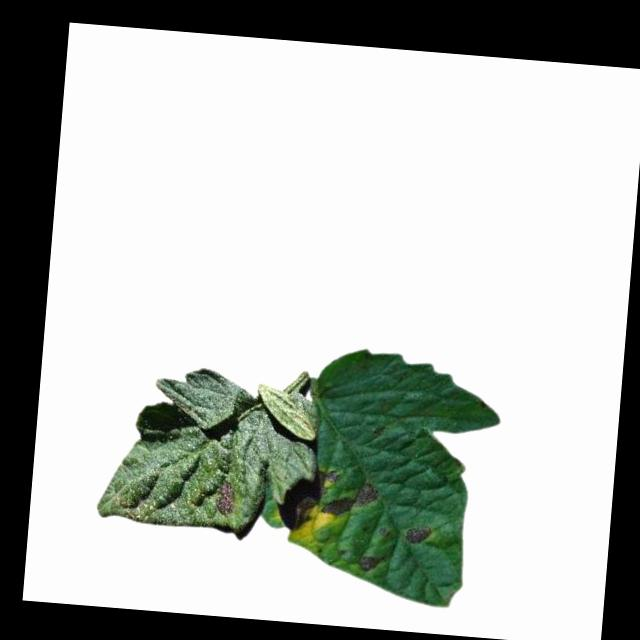Early_blight: (321, 482, 381, 522), (212, 477, 240, 519), (399, 522, 430, 549), (357, 554, 387, 575)
